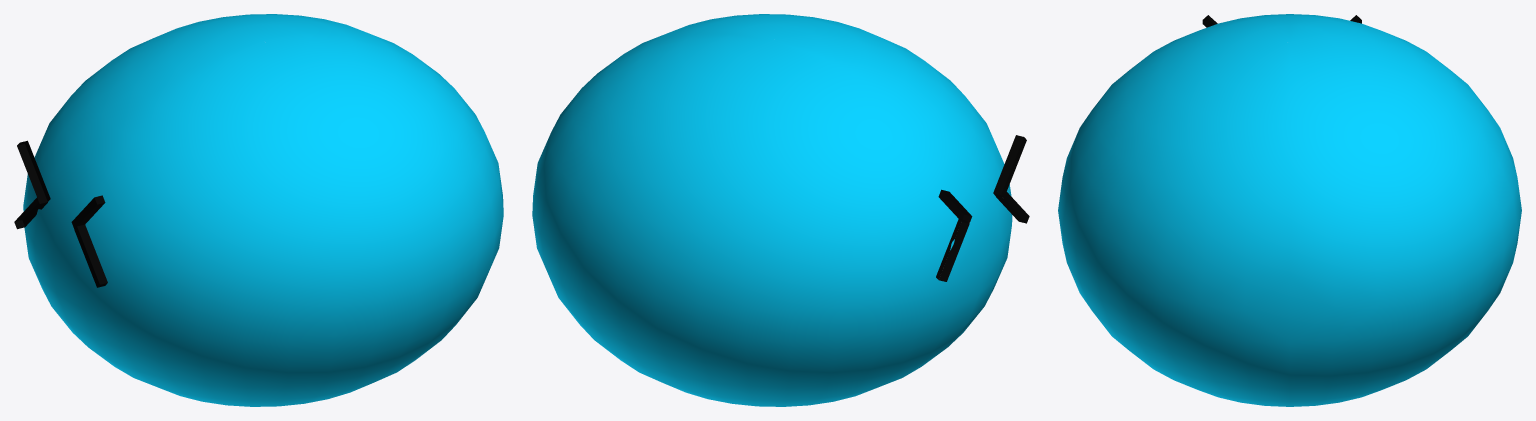
The model's file is GameOverPlayer.obj.
3 views of the same model, side by side, from view 1: azimuth 30°, elevation 25°; view 2: azimuth 150°, elevation 25°; view 3: azimuth 270°, elevation 25° (orthographic).
Visible parts, largest first — view 1: 立方体.002; view 2: 立方体.002; view 3: 立方体.002.
Part boxes in pixels (x1=…): 立方体.002: x1=14, y1=14, x2=503, y2=406; 立方体.002: x1=532, y1=14, x2=1029, y2=406; 立方体.002: x1=1058, y1=14, x2=1521, y2=406.
Bounding box in the file's own units: 2.6 × 2 × 2.5.
1 material, 1 textured.
